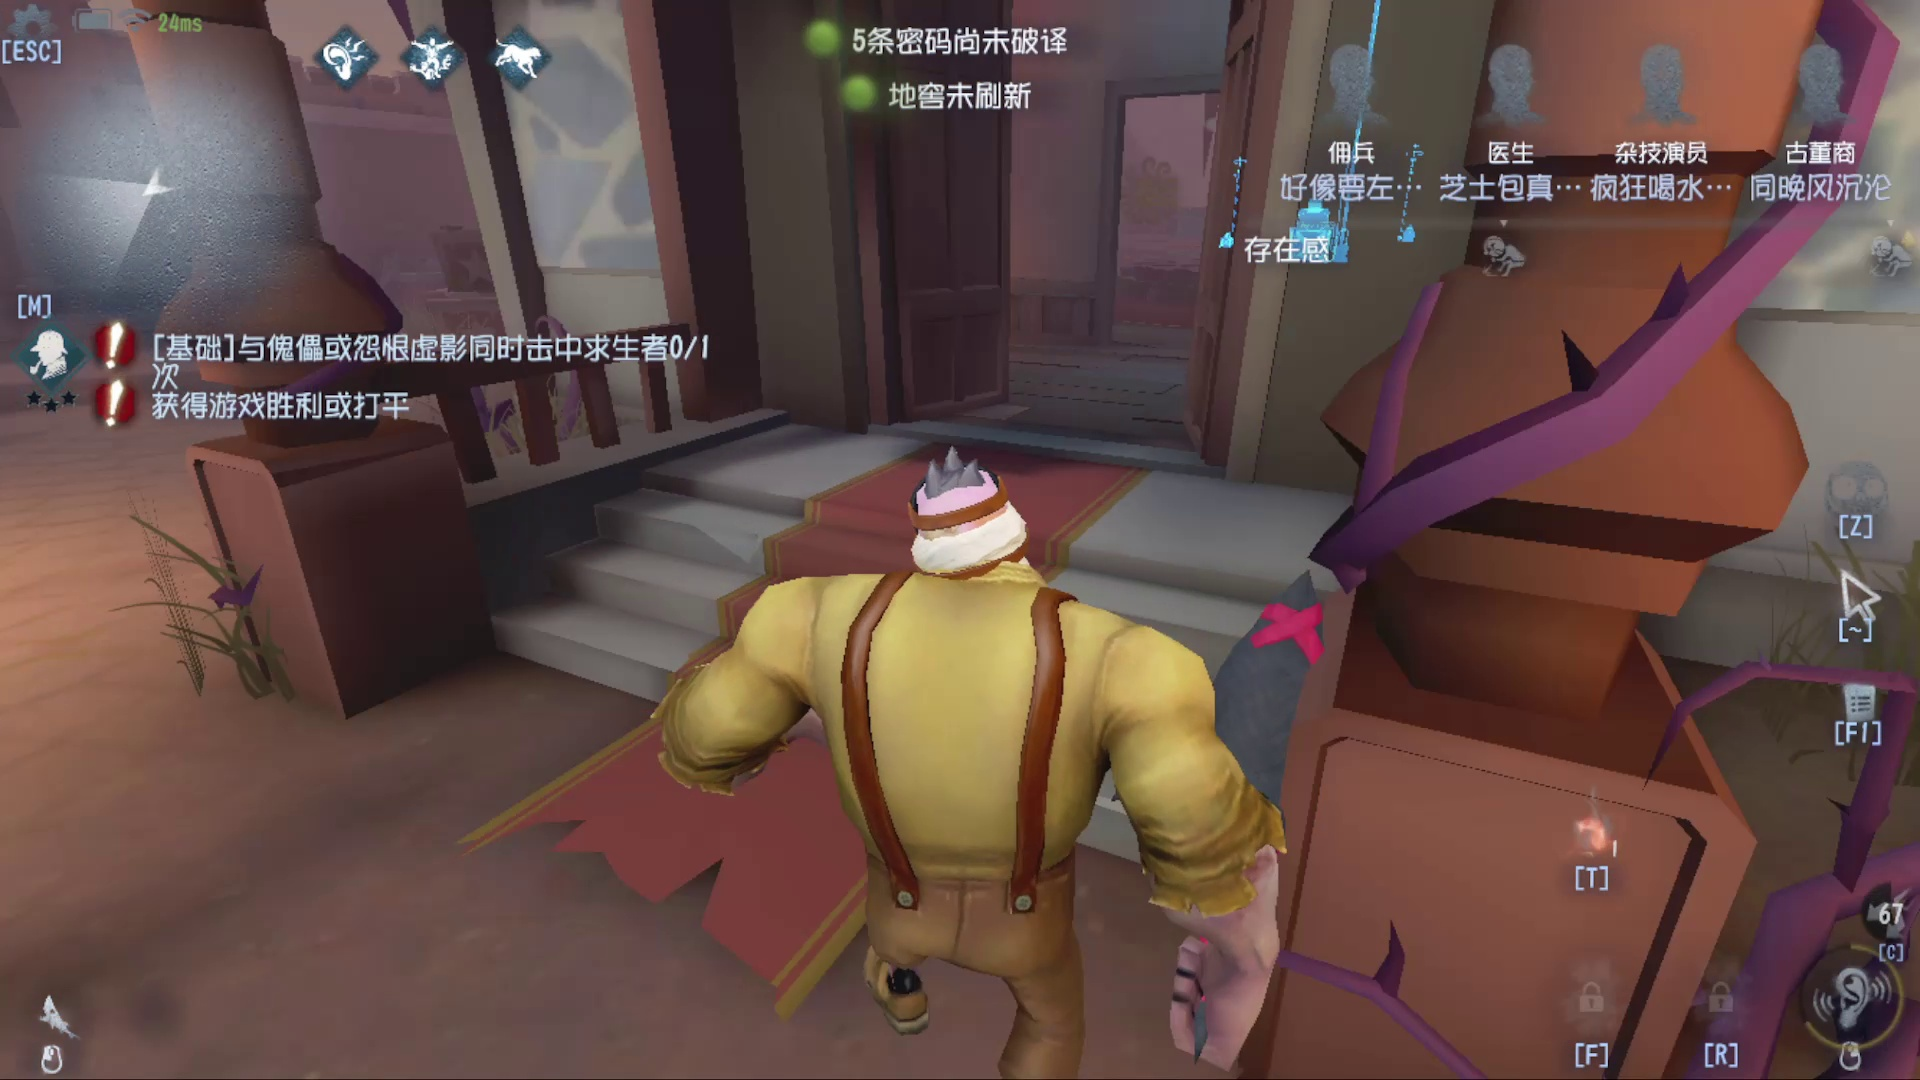密码机: (1280, 1, 1399, 277), (1386, 138, 1445, 261), (1203, 146, 1253, 272)
